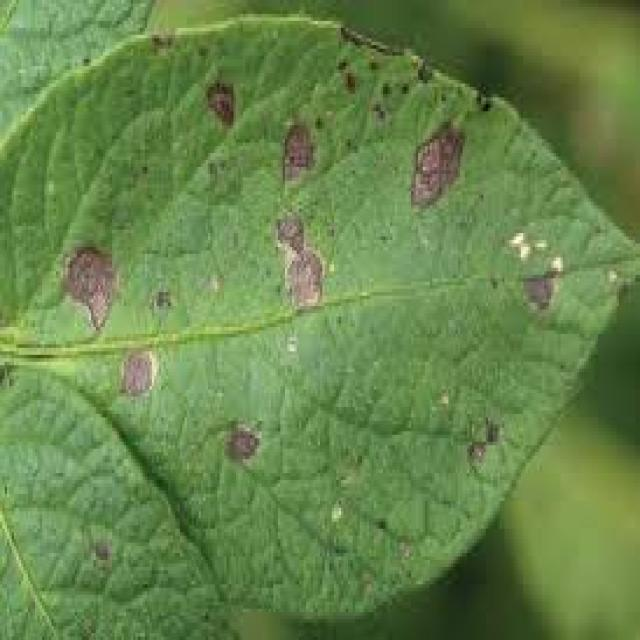lateblight: (275, 210, 325, 308), (508, 233, 562, 312), (411, 125, 459, 206), (65, 249, 112, 330), (282, 121, 315, 181), (121, 352, 155, 396), (225, 426, 261, 463), (208, 84, 234, 126)
